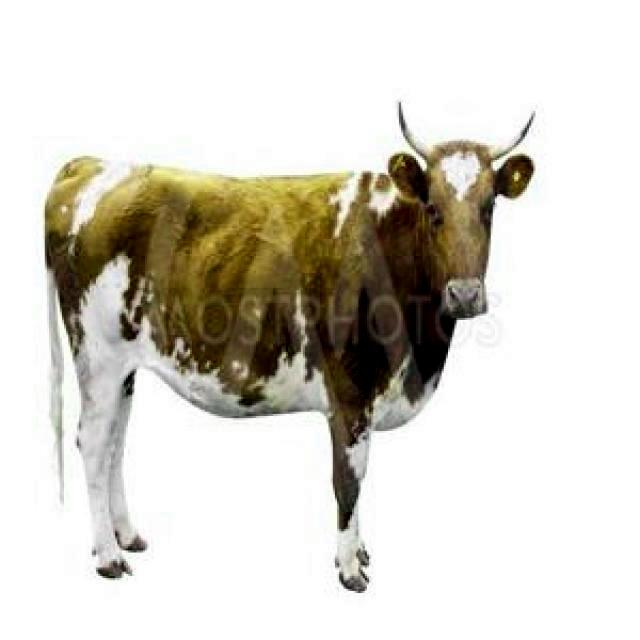COW: (45, 115, 532, 591)
